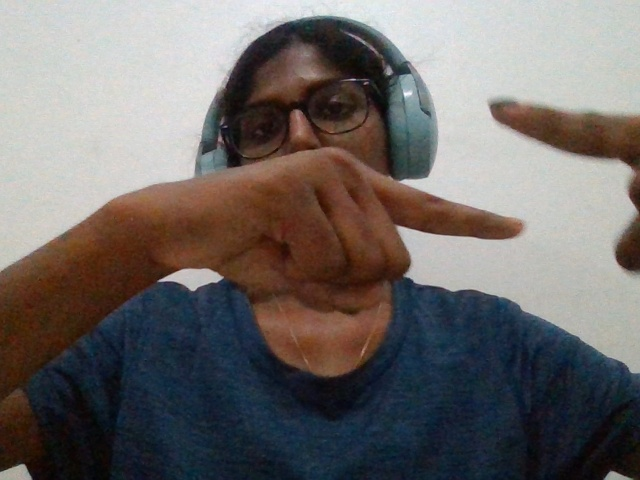Sign: (132, 69, 640, 324)
